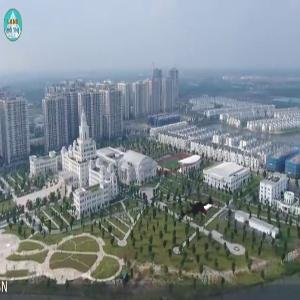drone: (169, 184, 229, 244)
